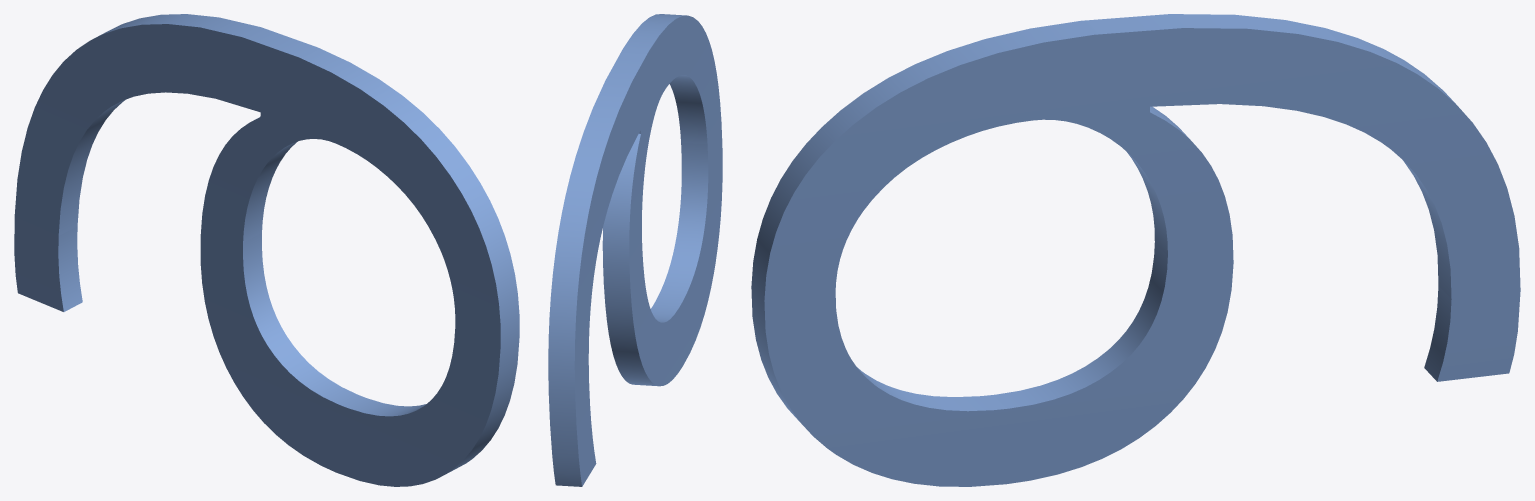
Rendered from New_Number_6.gltf.
The picture shows the model from 3 angles, left to right: view 1: azimuth 30°, elevation 25°; view 2: azimuth 150°, elevation 25°; view 3: azimuth 270°, elevation 25°; orthographic projection. The views are drawn at different scales.
Parts seen in each view (by area): view 1: Part 591; view 2: Part 591; view 3: Part 591.
Part boxes in pixels (left/top/right/bottom): Part 591: left=14, top=14, right=519, bottom=486; Part 591: left=548, top=14, right=722, bottom=486; Part 591: left=751, top=14, right=1520, bottom=486.
Bounding box in the file's own units: 0.00181 × 0.00358 × 0.00555.
